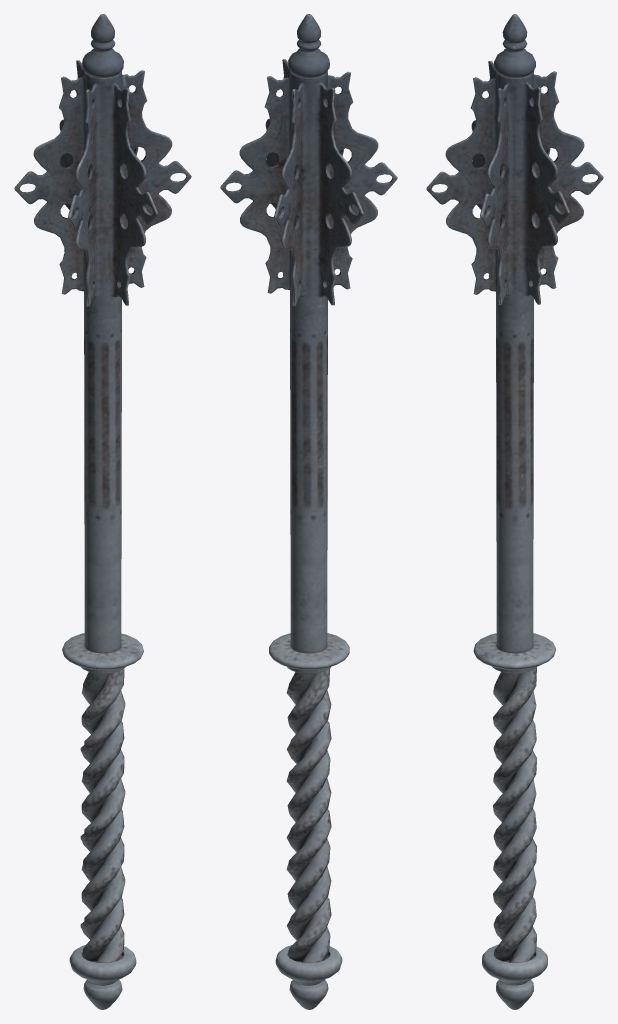
3 renders of one model, left to right at view 1: azimuth 30°, elevation 25°; view 2: azimuth 150°, elevation 25°; view 3: azimuth 270°, elevation 25°, orthographic.
Parts seen in each view (by area): view 1: ornate_medieval_mace; view 2: ornate_medieval_mace; view 3: ornate_medieval_mace.
Boxes of the visible parts, <box> form: ornate_medieval_mace: <box>14,14,191,1009</box>; ornate_medieval_mace: <box>220,14,397,1009</box>; ornate_medieval_mace: <box>426,14,603,1009</box>.
Size of the model in its own units: 0.0949 by 0.63 by 0.1017.
1 material, 1 textured.
